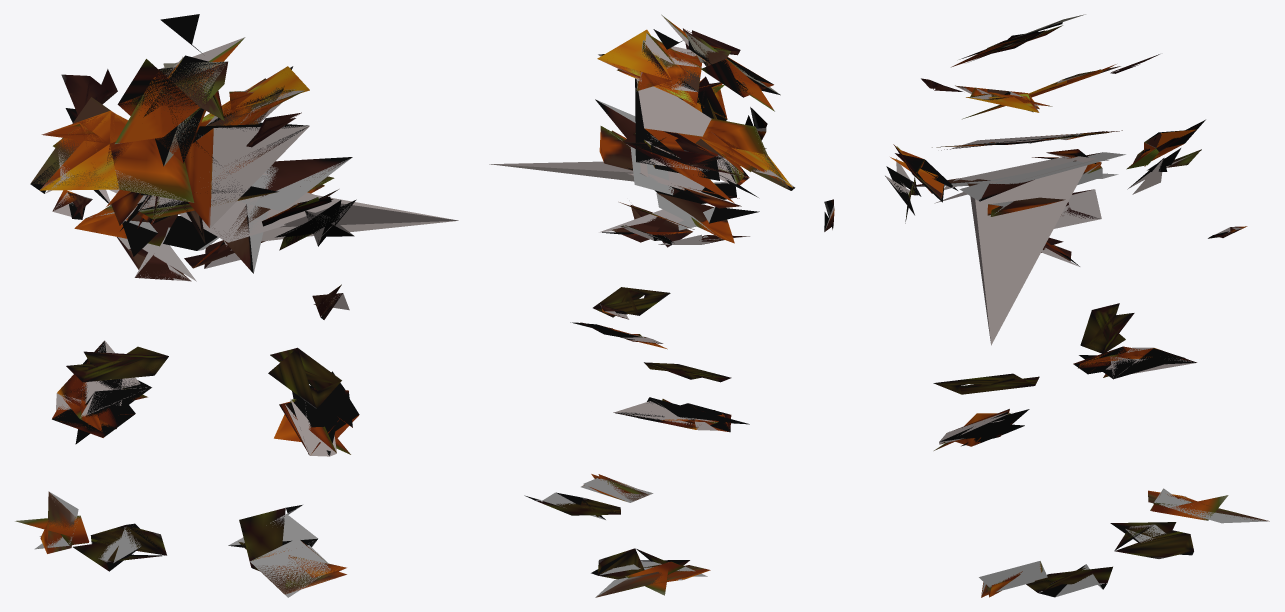
Rendered from serata_optimized.glb.
3 views of the same model, side by side, from view 1: azimuth 30°, elevation 25°; view 2: azimuth 150°, elevation 25°; view 3: azimuth 270°, elevation 25° (orthographic). The views are drawn at different scales.
Visible parts, largest first — view 1: world; view 2: world; view 3: world.
Part boxes in pixels (box(x1,y1,x2,y2)): world: box(15, 14, 458, 597); world: box(489, 14, 795, 597); world: box(824, 14, 1269, 597).
Bounding box in the file's own units: 1.51 × 2.12 × 1.59.
Materials: 1 (1 with a texture image).
